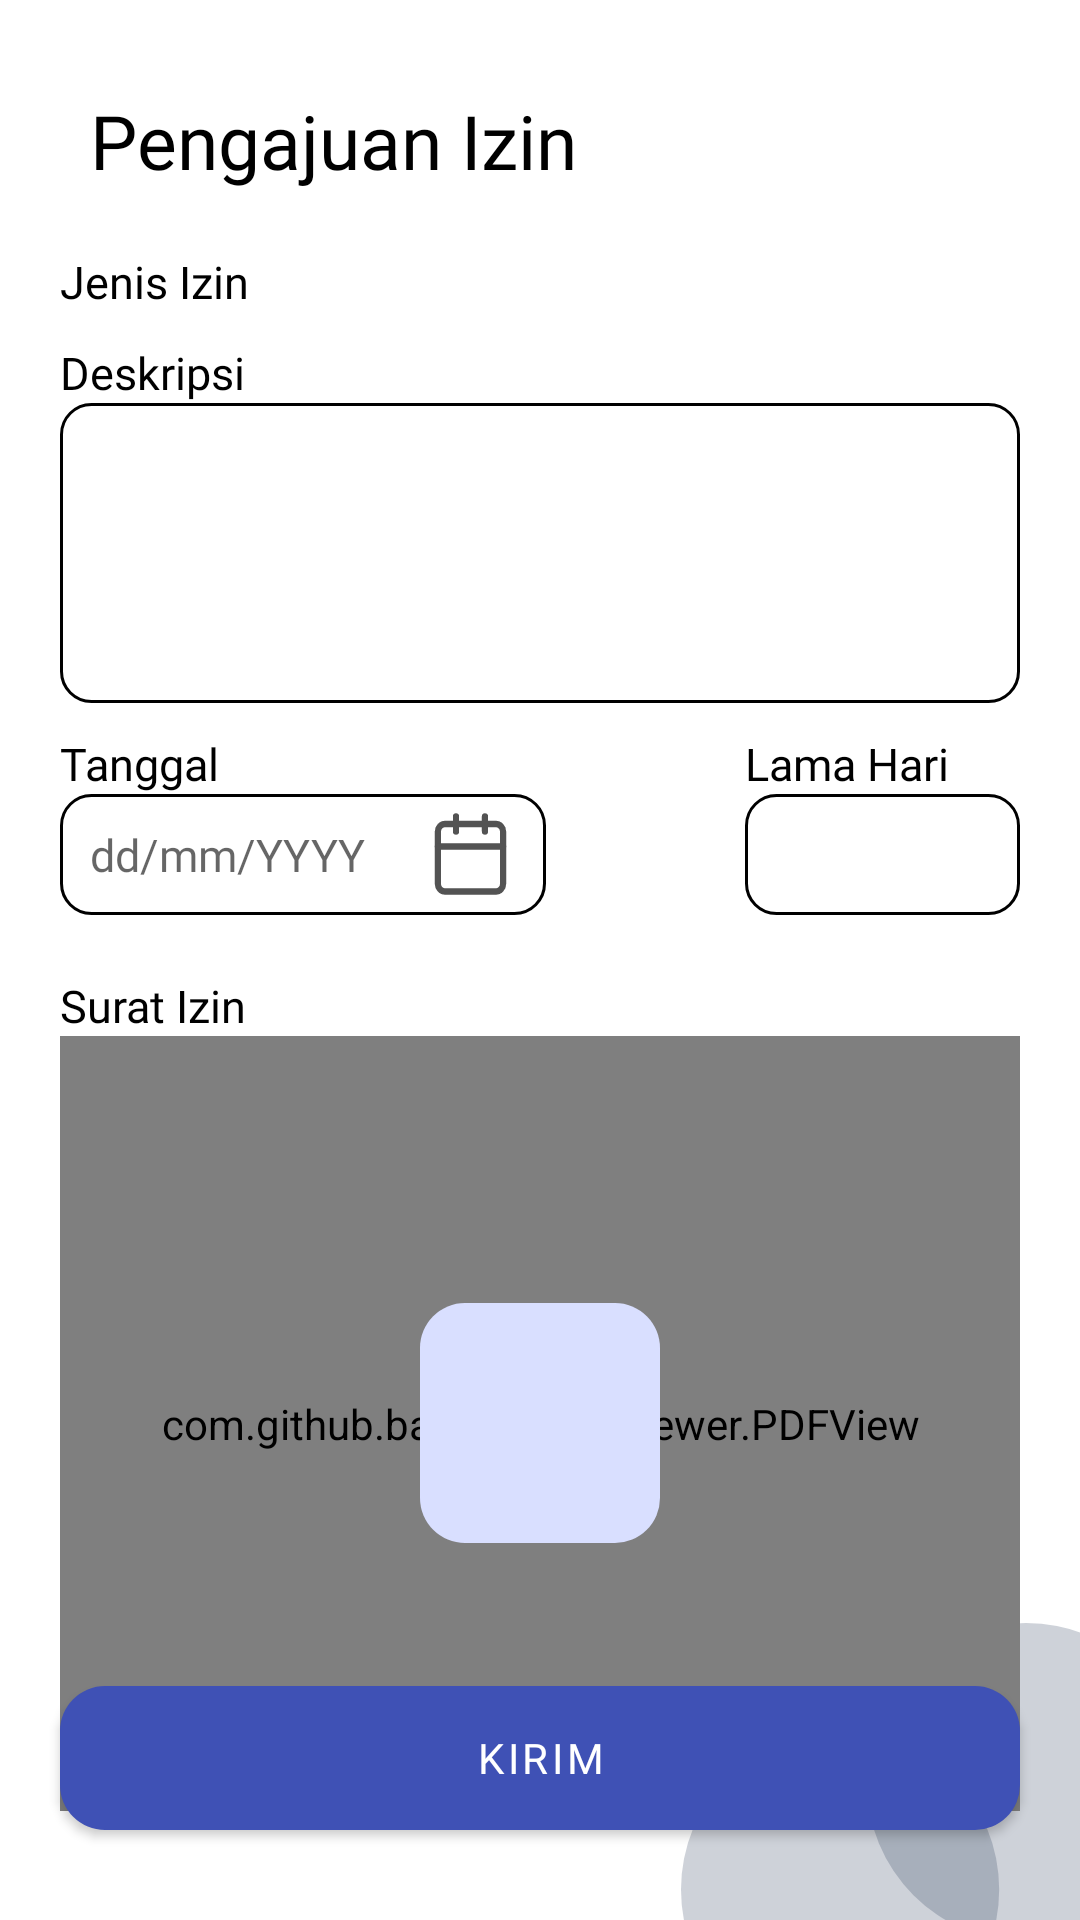

Point at icon controls on the screen. Image size 1080w x 1920h, points as (x=x, y=y).
calendar: (x=470, y=854)
